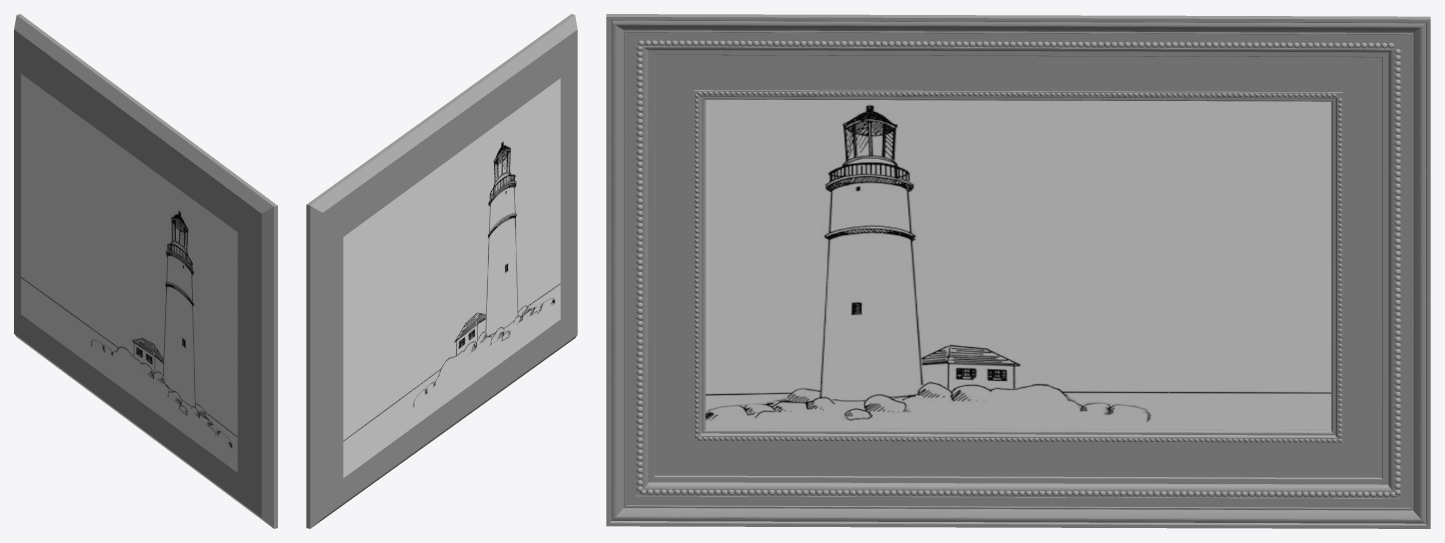
The model's file is pictureframe_lighthouse_horizontal.fbx.
The picture shows the model from 3 angles, left to right: view 1: azimuth 30°, elevation 25°; view 2: azimuth 150°, elevation 25°; view 3: azimuth 270°, elevation 25°; orthographic projection. The views are drawn at different scales.
Visible parts, largest first — view 1: pPlane2, horizontal_frame; view 2: pPlane2, horizontal_frame; view 3: horizontal_frame, pPlane2.
Part boxes in pixels (box(x1,y1,x2,y2)): pPlane2: box(21, 74, 237, 472); horizontal_frame: box(14, 14, 277, 528); pPlane2: box(343, 78, 560, 477); horizontal_frame: box(306, 14, 577, 528); horizontal_frame: box(606, 14, 1430, 528); pPlane2: box(705, 99, 1331, 429).
Bounding box in the file's own units: 0.6783 × 11.56 × 16.95.
Materials: 2 (1 with a texture image).
